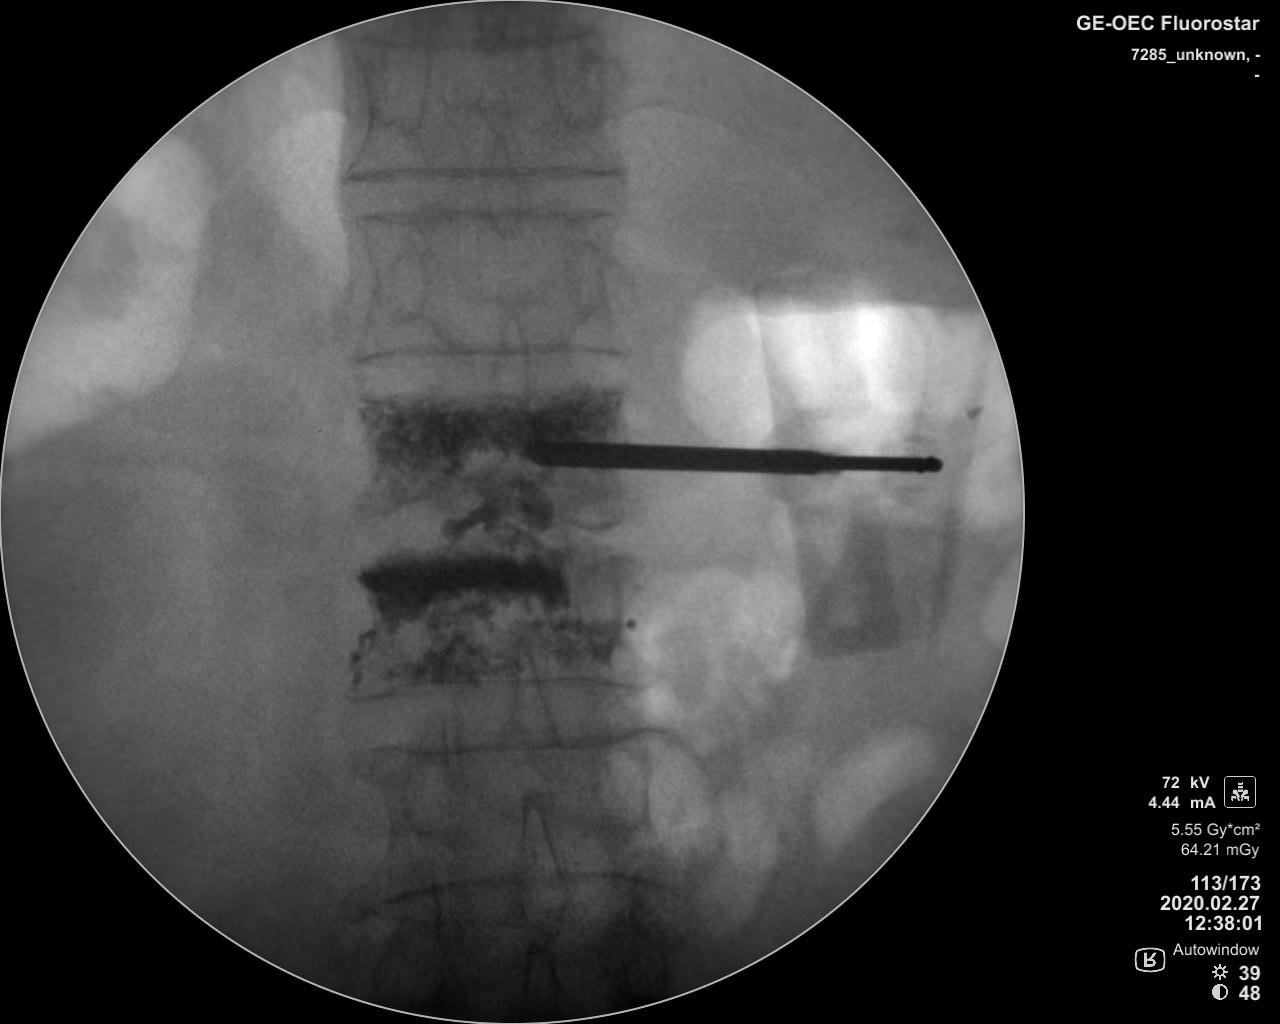eyes: (368, 36, 430, 135), (549, 37, 608, 138), (368, 235, 433, 328), (398, 750, 457, 842), (591, 743, 652, 831), (561, 239, 610, 318)
line: (367, 870, 704, 913), (355, 724, 672, 759), (343, 673, 643, 703), (342, 342, 638, 369), (344, 30, 612, 57), (339, 164, 631, 187), (349, 206, 620, 227)
nose: (506, 636, 565, 785), (512, 794, 572, 942), (482, 126, 527, 241), (490, 306, 534, 410), (521, 946, 567, 1021)
